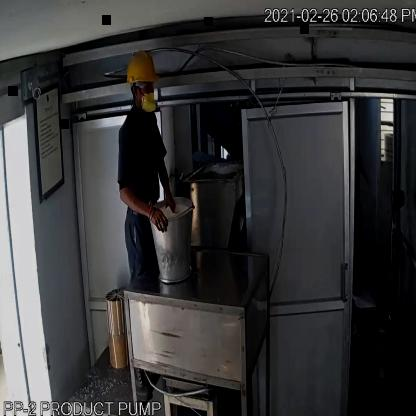helmet: (122, 43, 161, 91)
